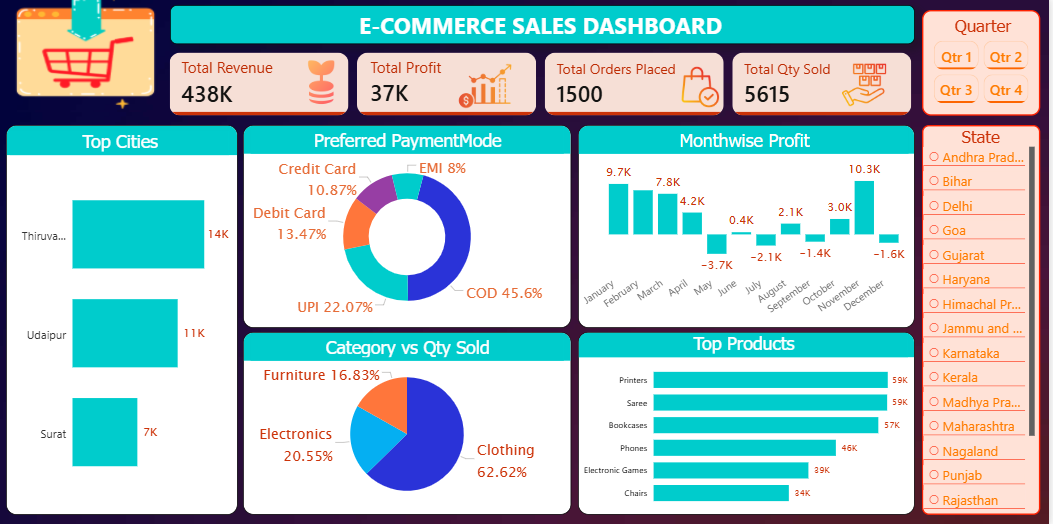

The page's visual inventory and layout, read from the dashboard file:
{"tool":"powerbi","page":{"name":"Page 1","canvas":[1500,754],"ordinal":0},"visuals":[{"type":"columnChart","title":"Monthwise Profit","fields":{"Category":["Orders.Order Date.Variation.Date Hierarchy.Month"],"Y":["Sum(Details.Profit)"]},"box":[827.1,181.4,481.4,290],"z":0},{"type":"barChart","title":"Top Products","fields":{"Category":["Details.Sub-Category"],"Y":["Sum(Details.Amount)"]},"box":[827.1,477.1,481.4,261.4],"z":1000},{"type":"donutChart","title":"Preferred PaymentMode","fields":{"Category":["Details.PaymentMode"],"Y":["CountNonNull(Details.Order ID)"]},"box":[348.6,181.4,468.6,290],"z":2000},{"type":"pieChart","title":"Category vs Qty Sold","fields":{"Category":["Details.Category"],"Y":["Sum(Details.Quantity)"]},"box":[348.6,477.1,468.6,261.4],"z":3000},{"type":"barChart","title":"Top Cities","fields":{"Category":["Orders.City"],"Y":["Sum(Details.Amount)"]},"box":[10,181.4,331.4,557.1],"z":4000},{"type":"textbox","box":[244.3,10,1064.3,55.7],"z":5000},{"type":"listSlicer","title":"State","fields":{"Values":["Orders.State"]},"box":[1318.6,181.4,168.6,557.1],"z":6000},{"type":"cardVisual","fields":{"Data":["Sum(Details.Amount)","Sum(Details.Profit)","CountNonNull(Details.Order ID)","Sum(Details.Quantity)"]},"box":[231.4,65.7,1087.1,114.3],"z":7000},{"type":"advancedSlicerVisual","fields":{"Values":["Orders.Order Date.Variation.Date Hierarchy.Quarter"]},"box":[1318.6,17.1,168.6,151.4],"z":8000},{"type":"image","box":[0,0,244.3,162.9],"z":9000}]}

Visuals, with their boxes in screenshot pixels (x1, y1, x2, y2), scaled from the page's 1500x754 canvas onto the 1053x524 screenshot:
"Monthwise Profit" columnChart: {"x1": 581, "y1": 126, "x2": 919, "y2": 328}
"Top Products" barChart: {"x1": 581, "y1": 332, "x2": 919, "y2": 513}
"Preferred PaymentMode" donutChart: {"x1": 245, "y1": 126, "x2": 574, "y2": 328}
"Category vs Qty Sold" pieChart: {"x1": 245, "y1": 332, "x2": 574, "y2": 513}
"Top Cities" barChart: {"x1": 7, "y1": 126, "x2": 240, "y2": 513}
textbox: {"x1": 171, "y1": 7, "x2": 919, "y2": 46}
"State" listSlicer: {"x1": 926, "y1": 126, "x2": 1044, "y2": 513}
cardVisual - Sum(Details.Amount) x Sum(Details.Profit): {"x1": 162, "y1": 46, "x2": 926, "y2": 125}
advancedSlicerVisual - Orders.Order Date.Variation.Date Hierarchy.Quarter: {"x1": 926, "y1": 12, "x2": 1044, "y2": 117}
image: {"x1": 0, "y1": 0, "x2": 171, "y2": 113}
